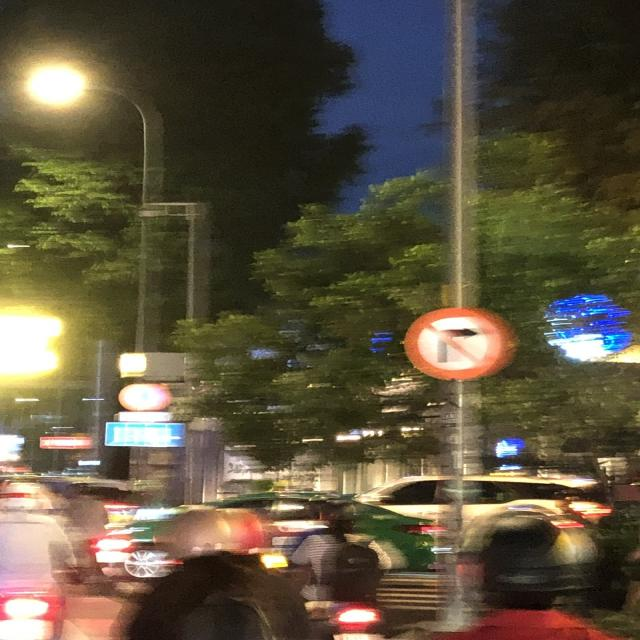Bien bao cam re phai: (397, 298, 512, 383)
